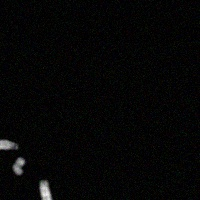chromosome: (40, 180, 56, 200), (0, 139, 17, 150), (13, 158, 24, 175)
